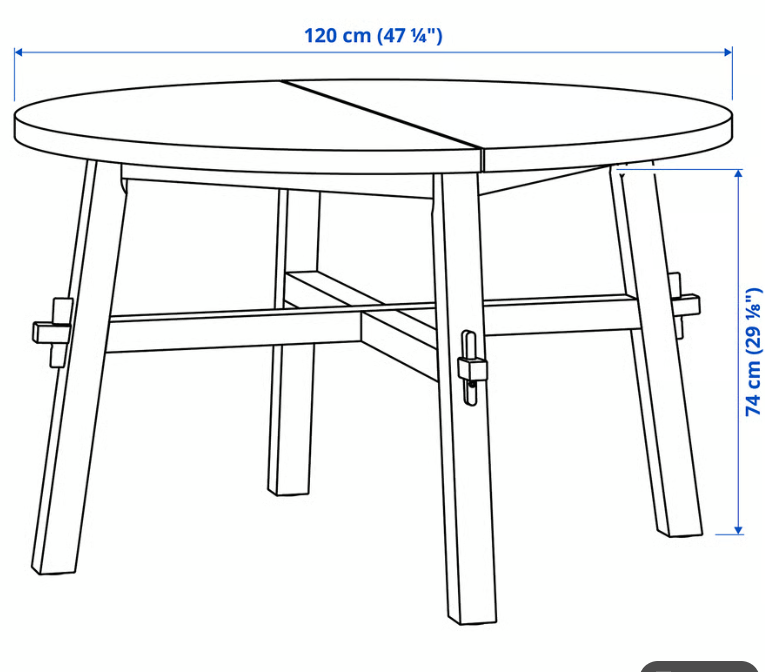table_legs: (33, 160, 127, 574), (609, 161, 703, 537), (431, 173, 497, 625), (267, 344, 315, 496), (274, 189, 320, 309)
table_support: (105, 271, 438, 382), (121, 163, 433, 199), (483, 294, 642, 336), (478, 165, 607, 195)
table_top: (14, 80, 733, 173)
